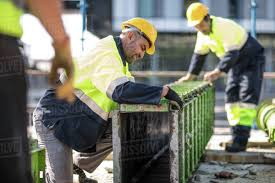helmet: (183, 2, 210, 24)
vest: (121, 17, 160, 54)
